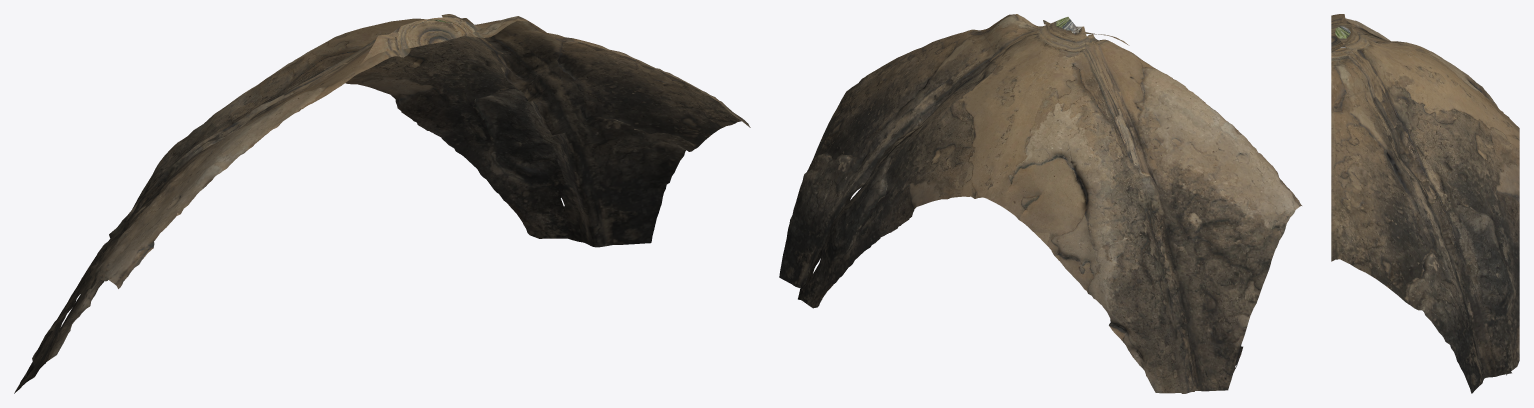
Rendered from sm_Chapel_01_10.fbx.
The picture shows the model from 3 angles, left to right: view 1: azimuth 30°, elevation 25°; view 2: azimuth 150°, elevation 25°; view 3: azimuth 270°, elevation 25°; orthographic projection. The views are drawn at different scales.
Visible parts, largest first — view 1: sm_Chapel_01_10_LOD0; view 2: sm_Chapel_01_10_LOD0; view 3: sm_Chapel_01_10_LOD0.
Part boxes in pixels (<box>): sm_Chapel_01_10_LOD0: <box>14,14,750,393</box>; sm_Chapel_01_10_LOD0: <box>779,14,1301,393</box>; sm_Chapel_01_10_LOD0: <box>1331,14,1519,393</box>.
Bounding box in the file's own units: 203 × 74.13 × 113.
